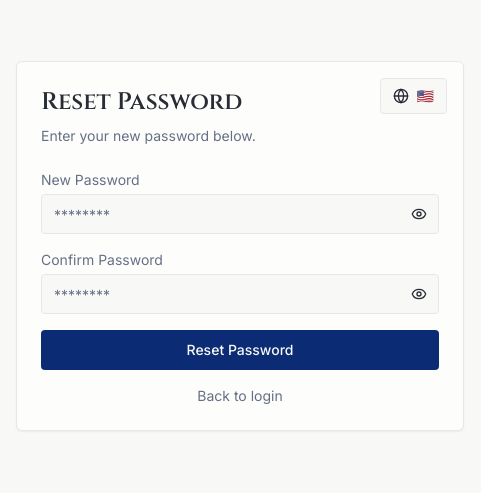
Test: ResetPassword page › shows error for expired token
The image size is (481, 493).
In the password field labelled "New Password": (240, 214) [41,194,439,234], type "NewSecurePass123!"
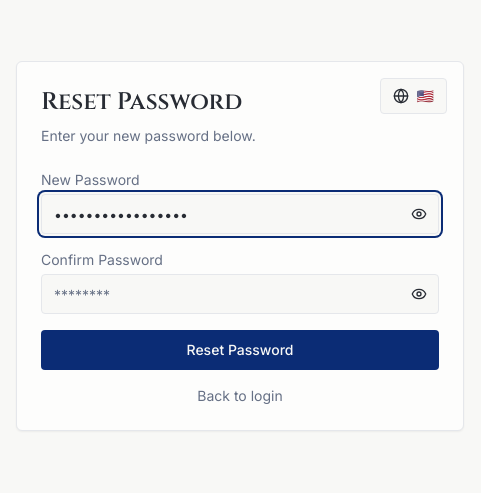
In the password field labelled "Confirm Password": (240, 294) [41,274,439,314], type "NewSecurePass123!"
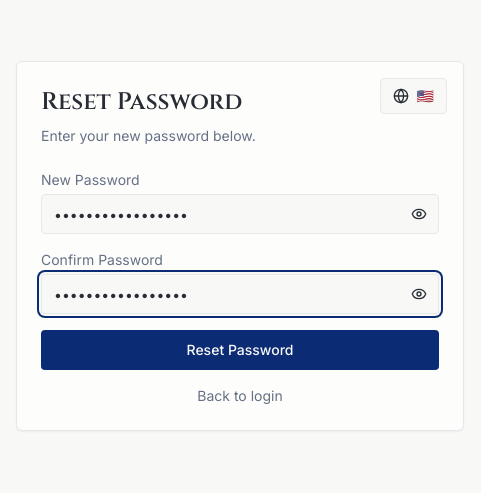
Click the button "Reset Password": (240, 350) [41,330,439,370]
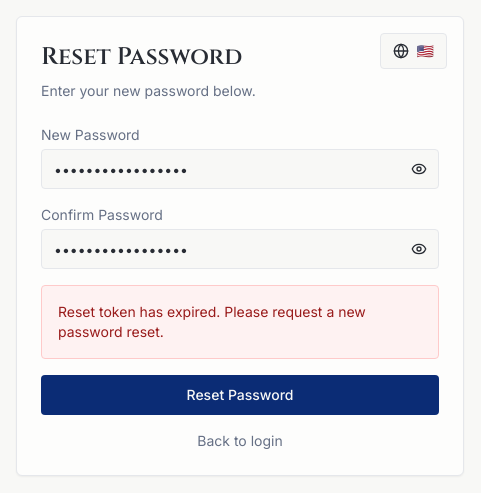
Expected: the text "Reset token has expired. Please request a new password reset." is shown, [58,303,366,340]
